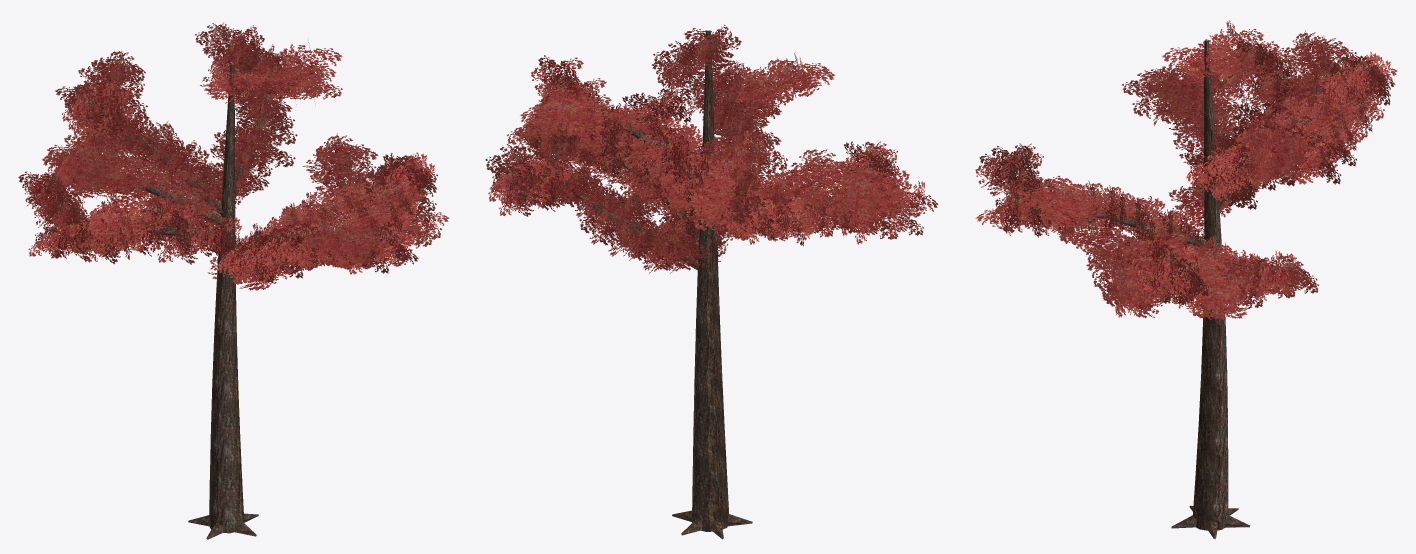
The model's file is tree_3d_03_red_lod0.glb.
3 renders of one model, left to right at view 1: azimuth 30°, elevation 25°; view 2: azimuth 150°, elevation 25°; view 3: azimuth 270°, elevation 25°, orthographic. The views are drawn at different scales.
Parts seen in each view (by area): view 1: foliage_cards, wood_geometry; view 2: foliage_cards, wood_geometry; view 3: foliage_cards, wood_geometry.
Boxes of the visible parts, x1=… form: foliage_cards: x1=18, y1=22, x2=449, y2=290; wood_geometry: x1=47, y1=45, x2=417, y2=539; foliage_cards: x1=485, y1=25, x2=938, y2=273; wood_geometry: x1=526, y1=30, x2=896, y2=539; foliage_cards: x1=975, y1=20, x2=1397, y2=327; wood_geometry: x1=1015, y1=40, x2=1370, y2=538.
Bounding box in the file's own units: 9.89 × 10.63 × 8.44.
2 materials, 2 textured.
